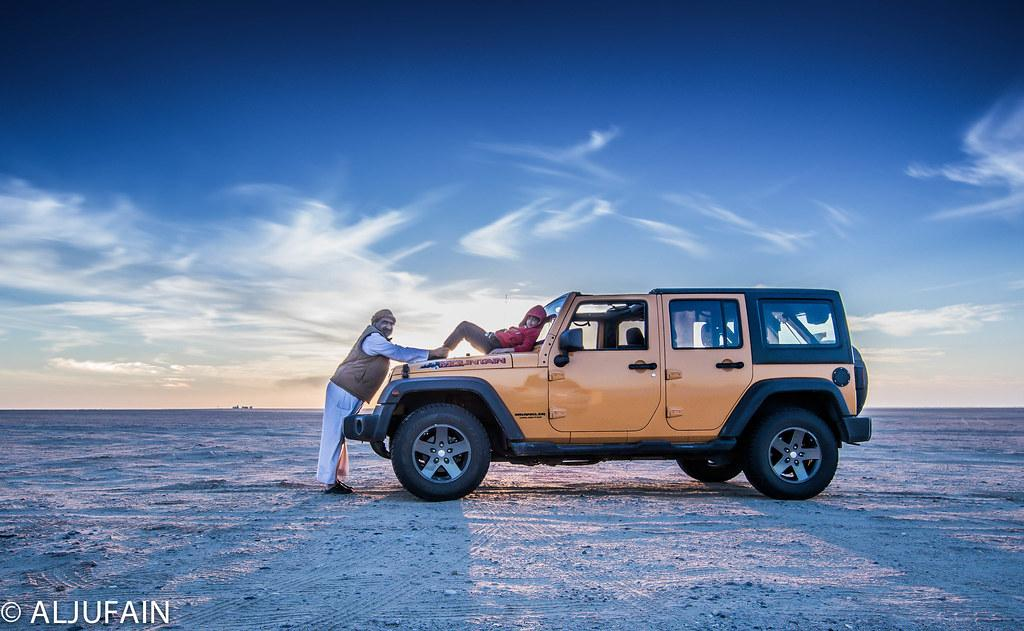car: (343, 287, 873, 502)
